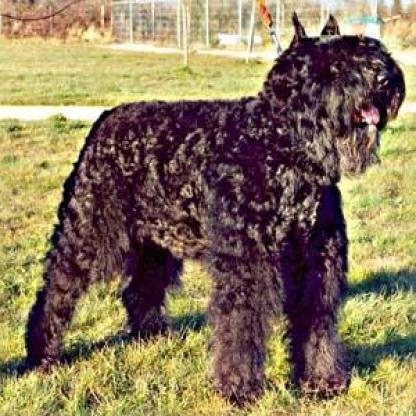Bouvier_des_Flandres: (19, 9, 406, 403)
